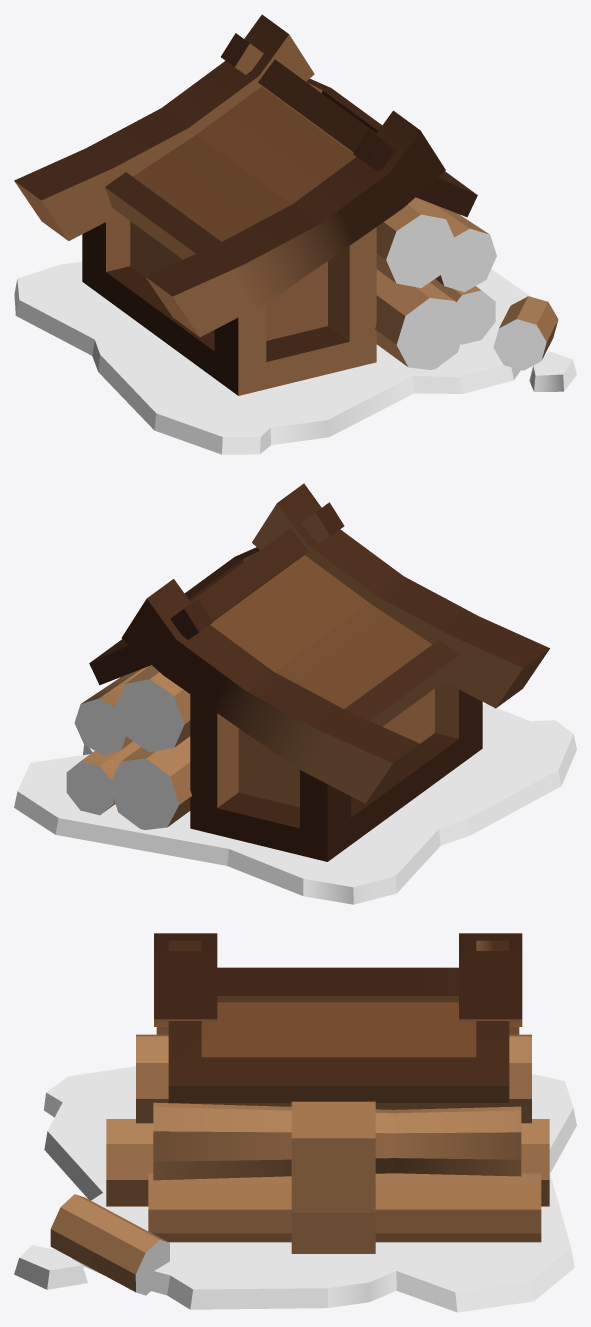
The model's file is Pve_Sawmill.fbx.
3 renders of one model, top to bottom at view 1: azimuth 30°, elevation 25°; view 2: azimuth 150°, elevation 25°; view 3: azimuth 270°, elevation 25°, orthographic. The views are drawn at different scales.
Visible parts, largest first — view 1: Sawmill; view 2: Sawmill; view 3: Sawmill.
Part boxes in pixels (left/top/right/bottom): Sawmill: left=14, top=14, right=576, bottom=454; Sawmill: left=14, top=483, right=576, bottom=904; Sawmill: left=14, top=933, right=576, bottom=1312.
Bounding box in the file's own units: 1.11 × 0.6254 × 1.13.
